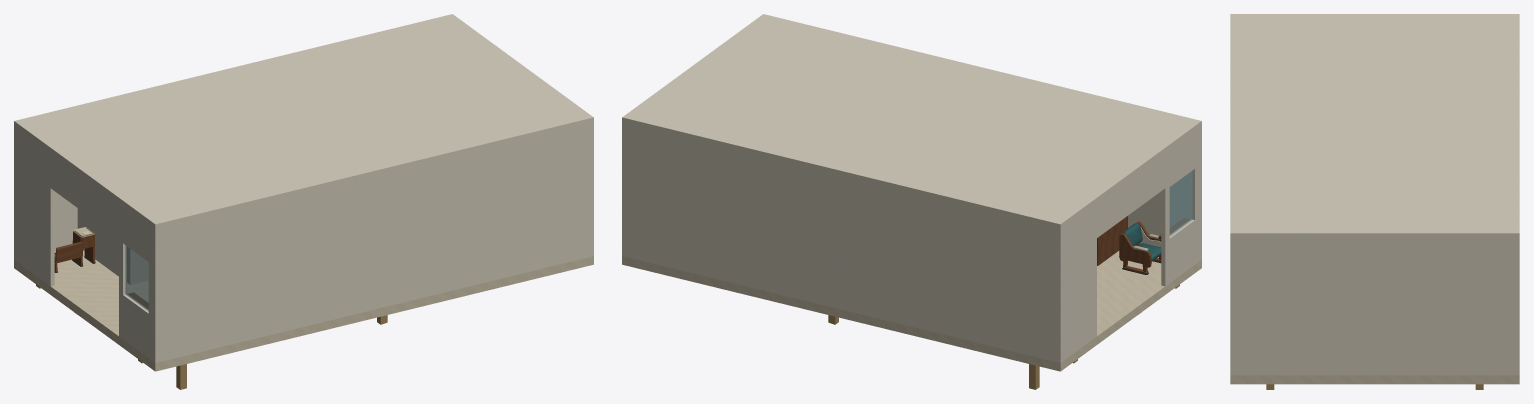
Rendered from NightGardenD15Specialty_404_r001.glb.
3 views of the same model, side by side, from view 1: azimuth 30°, elevation 25°; view 2: azimuth 150°, elevation 25°; view 3: azimuth 270°, elevation 25° (orthographic). The views are drawn at different scales.
Visible parts, largest first — view 1: NG404_Ceiling, NG404_NorthSide, NG404_RoomFloor, NG404_EntryShoulderSouth, NG404_EntryHeader, NG404_StreetWindowLower, NG404_WashEntrySide, NG404_SouthSide, NG404_StreetWindowUpper, NG404_ScreenedStreetGlass; view 2: NG404_Ceiling, NG404_SouthSide, NG404_RoomFloor, NG404_EntryShoulderSouth, NG404_EntryHeader, NG404_NorthSide, NG404_StreetWindowLower, NG404_StreetWindowUpper, NG404_ScreenedStreetGlass, NG404_EntryPrivacyDogleg, NG404_DayReadingChair__DAY_CHAIR_R_swept_walnut_cheek; view 3: NG404_Ceiling, NG404_OpaqueRearBoundary, NG404_RoomFloor, NG404_NorthSide, NG404_SouthSide.
Part boxes in pixels (x1,y1,x2,y2): NG404_Ceiling: [14, 14, 593, 229]; NG404_NorthSide: [153, 123, 593, 362]; NG404_RoomFloor: [14, 250, 593, 371]; NG404_EntryShoulderSouth: [16, 128, 54, 286]; NG404_EntryHeader: [49, 152, 119, 238]; NG404_StreetWindowLower: [119, 292, 152, 360]; NG404_WashEntrySide: [77, 208, 133, 284]; NG404_SouthSide: [14, 127, 77, 260]; NG404_StreetWindowUpper: [119, 204, 152, 264]; NG404_ScreenedStreetGlass: [125, 245, 148, 310]; NG404_Ceiling: [622, 14, 1201, 229]; NG404_SouthSide: [622, 123, 1062, 362]; NG404_RoomFloor: [622, 251, 1201, 371]; NG404_EntryShoulderSouth: [1063, 204, 1096, 360]; NG404_EntryHeader: [1096, 152, 1166, 237]; NG404_NorthSide: [1128, 127, 1201, 260]; NG404_StreetWindowLower: [1161, 217, 1199, 286]; NG404_StreetWindowUpper: [1163, 128, 1199, 190]; NG404_ScreenedStreetGlass: [1169, 171, 1192, 235]; NG404_EntryPrivacyDogleg: [1097, 216, 1127, 265]; NG404_DayReadingChair__DAY_CHAIR_R_swept_walnut_cheek: [1119, 233, 1151, 267]; NG404_Ceiling: [1230, 14, 1519, 238]; NG404_OpaqueRearBoundary: [1235, 239, 1514, 375]; NG404_RoomFloor: [1230, 375, 1519, 384]; NG404_NorthSide: [1230, 239, 1234, 375]; NG404_SouthSide: [1515, 239, 1519, 375].
Size of the model in its own units: 12.9 by 5.31 by 7.2.
Materials: 67 (49 with a texture image).
